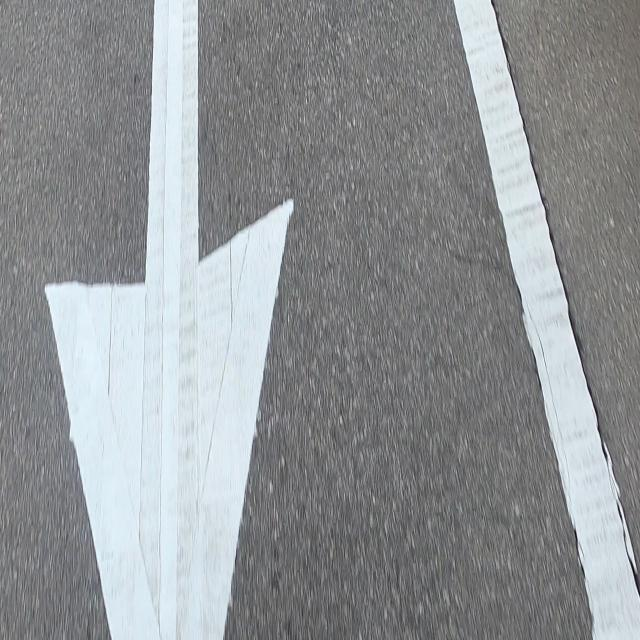Retak-Memanjang: (489, 1, 640, 603)
